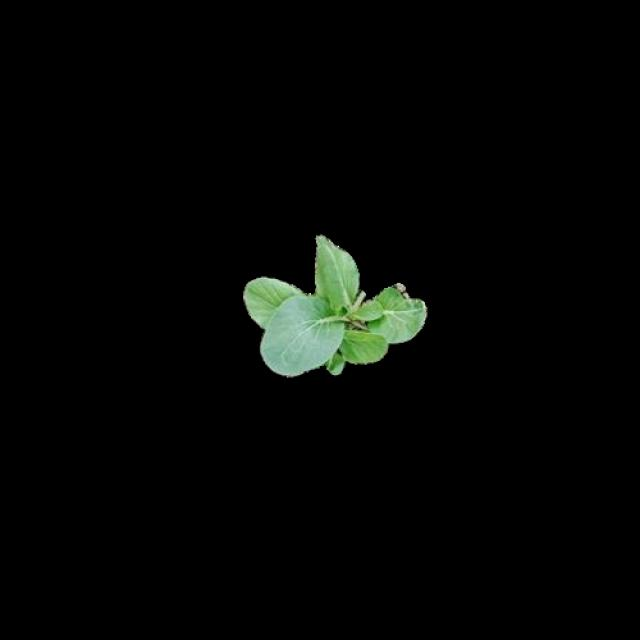not-mature: (244, 234, 426, 378)
unhealthy: (371, 286, 424, 342)
